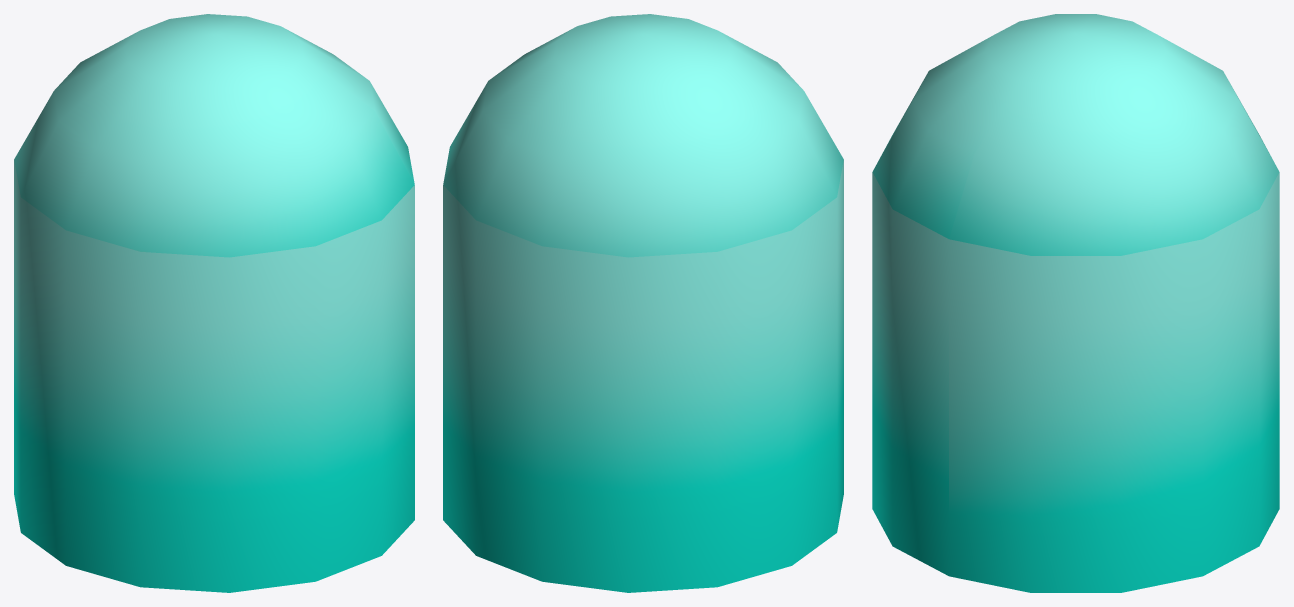
File: light.FBX
3 renders of one model, left to right at view 1: azimuth 30°, elevation 25°; view 2: azimuth 150°, elevation 25°; view 3: azimuth 270°, elevation 25°, orthographic.
Parts seen in each view (by area): view 1: LIGHT; view 2: LIGHT; view 3: LIGHT.
Part boxes in pixels (bbox=[...]): LIGHT: bbox=[14, 14, 414, 592]; LIGHT: bbox=[443, 14, 843, 592]; LIGHT: bbox=[872, 14, 1279, 592].
Bounding box in the file's own units: 2.93 × 3.87 × 3.
